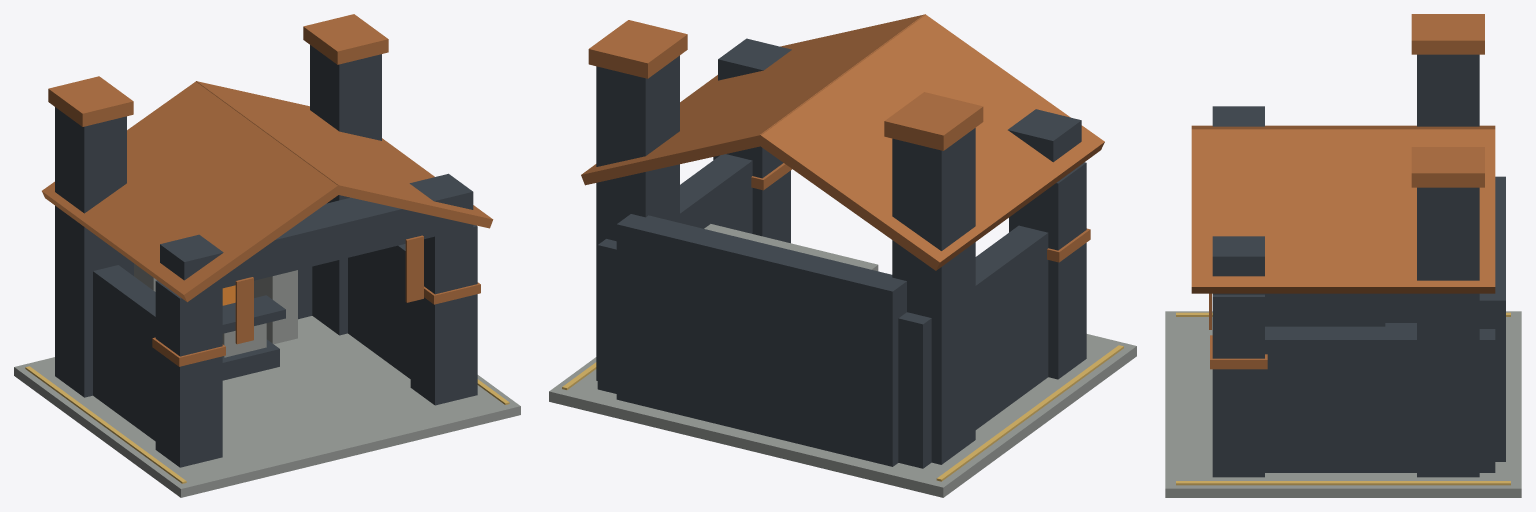
The model's file is deepforge_grand_forge.glb.
3 renders of one model, left to right at view 1: azimuth 30°, elevation 25°; view 2: azimuth 150°, elevation 25°; view 3: azimuth 270°, elevation 25°, orthographic. The views are drawn at different scales.
Visible parts, largest first — view 1: deepforge_grand_forge; view 2: deepforge_grand_forge; view 3: deepforge_grand_forge.
Part boxes in pixels (box(x1,y1,x2,y2)): deepforge_grand_forge: box(14, 14, 520, 497); deepforge_grand_forge: box(549, 14, 1136, 497); deepforge_grand_forge: box(1165, 14, 1521, 497).
Bounding box in the file's own units: 40 × 33.25 × 34.
